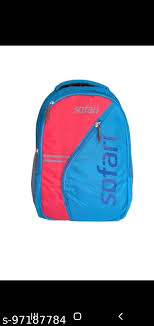backpack: (30, 78, 133, 221)
